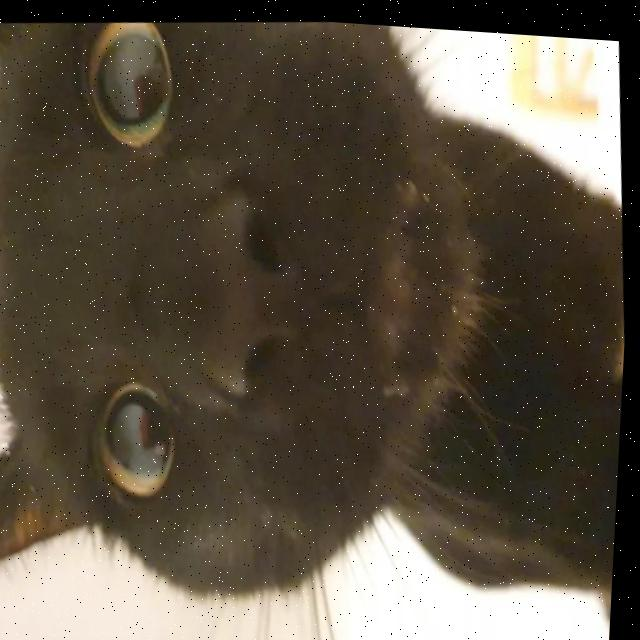Cats: (0, 0, 640, 615)
